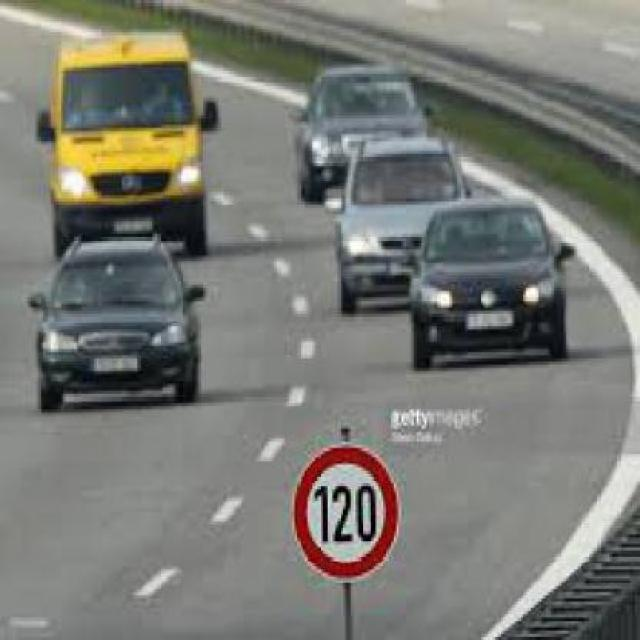forb_speed_over_120: (294, 448, 397, 579)
